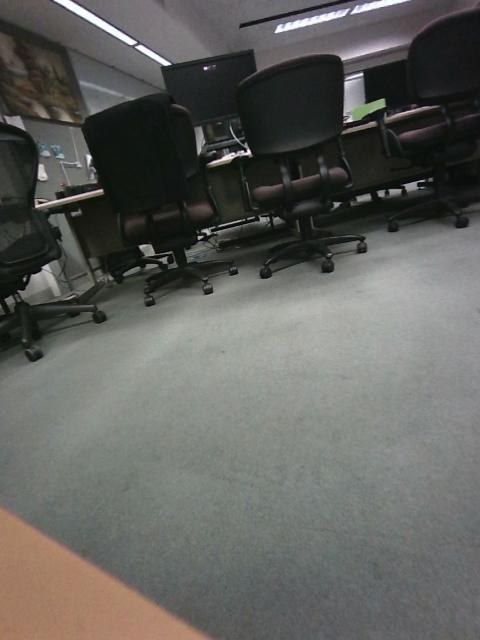block: (6, 456, 101, 520)
